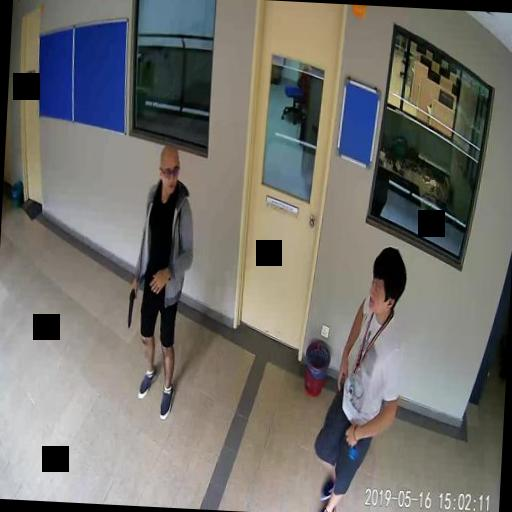Handgun: (126, 282, 138, 326)
